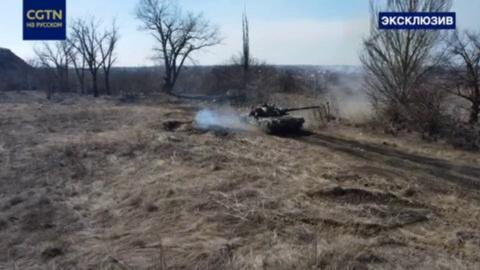tank: (241, 104, 320, 134)
